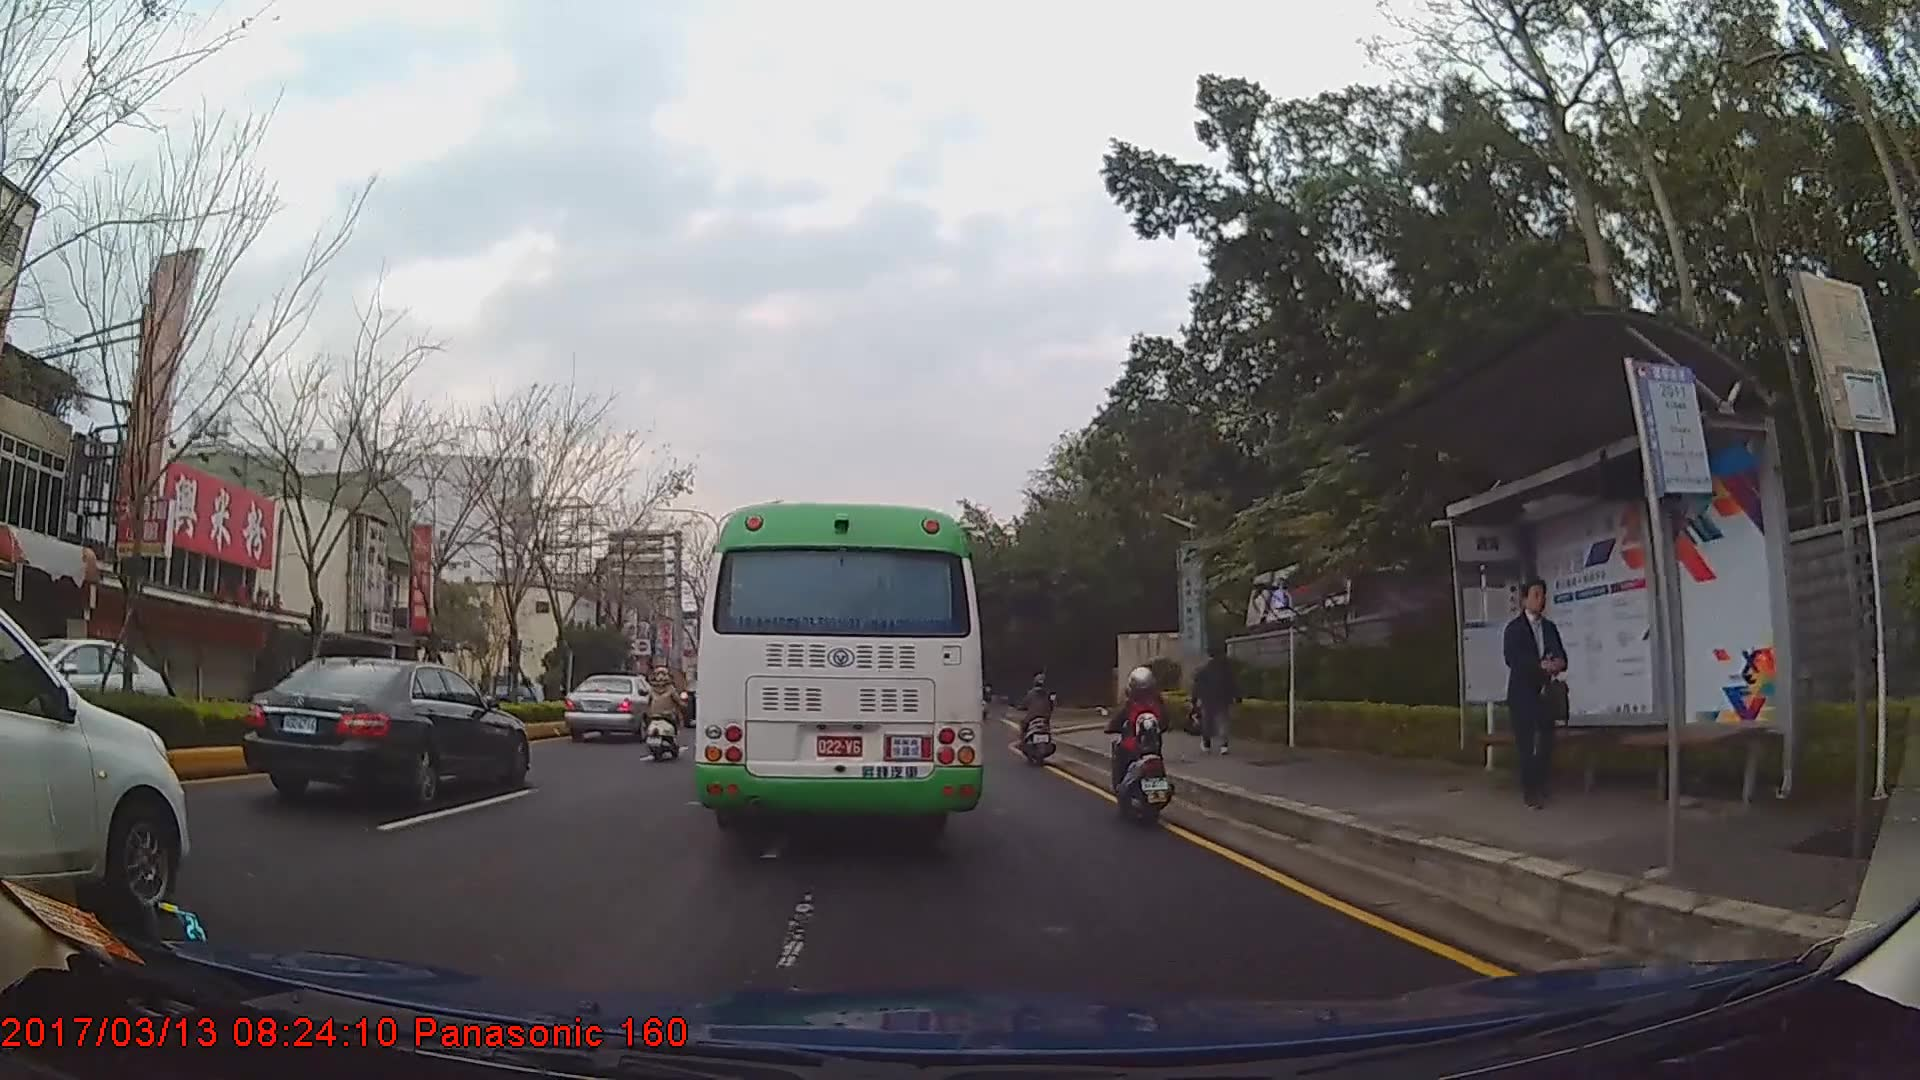pedestrian: (1503, 578, 1577, 812), (1187, 642, 1242, 759)
rider: (1104, 662, 1174, 826), (1017, 669, 1060, 767), (648, 668, 682, 761), (959, 672, 979, 713)
vehicle: (694, 504, 982, 849), (0, 584, 188, 909), (241, 653, 529, 806), (15, 628, 170, 745), (564, 671, 660, 743)
